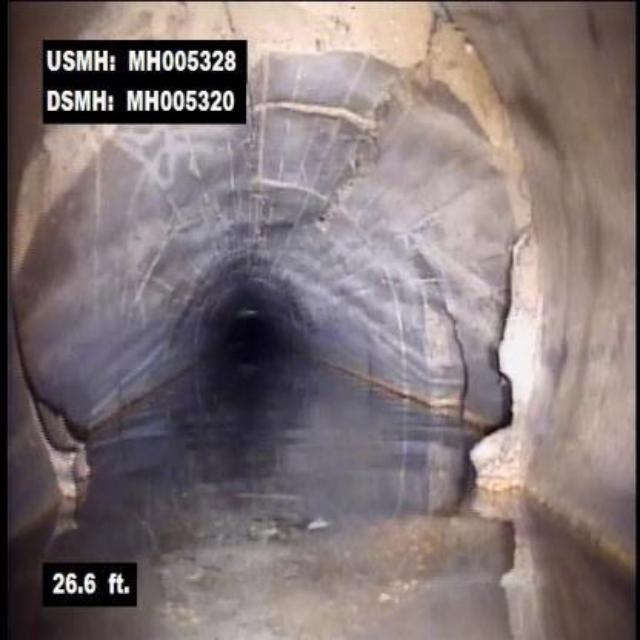Crack: (311, 138, 378, 231), (255, 94, 374, 134), (402, 5, 442, 95)
Joint offset: (442, 32, 534, 229), (12, 128, 103, 283), (248, 3, 392, 75)
